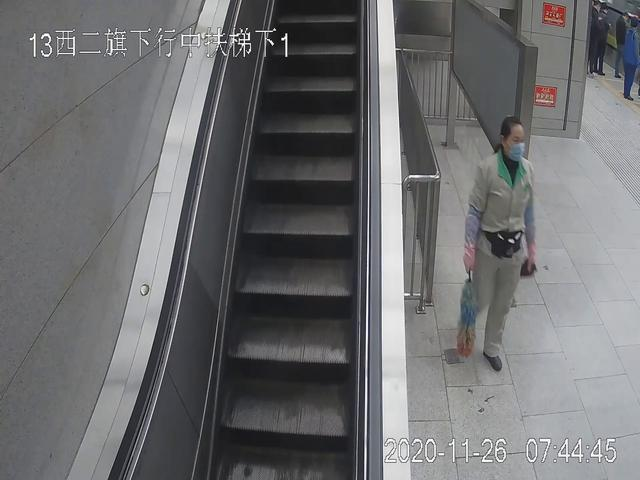person: (457, 117, 542, 371), (620, 16, 640, 101), (590, 3, 610, 75)
